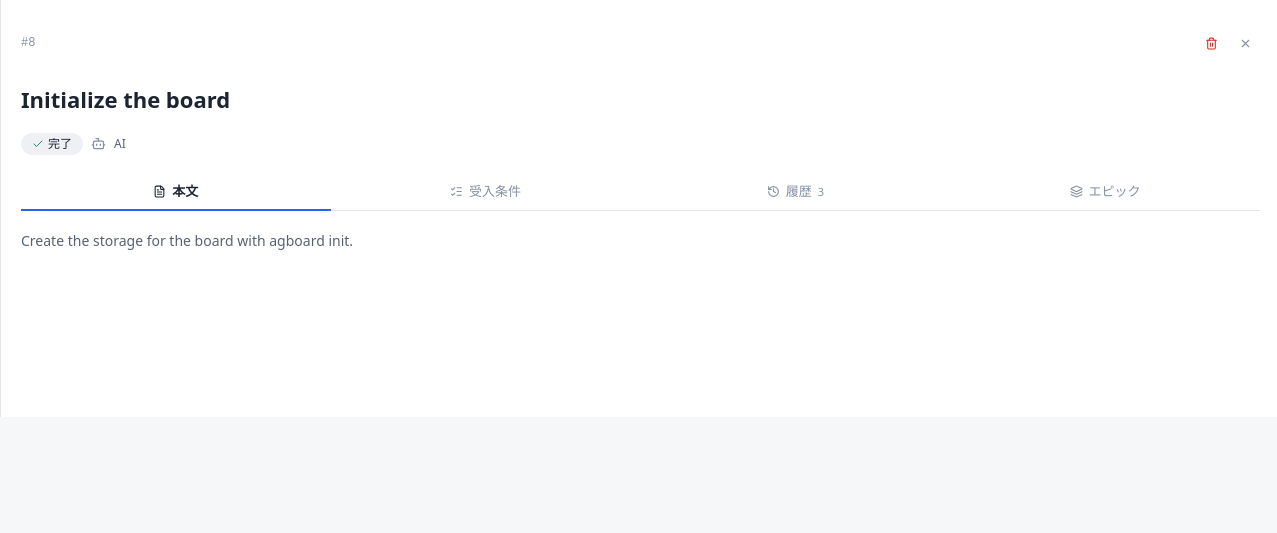
Test case: toolbar › matches the Pen Japanese delete confirmation copy
The image size is (1277, 533).
Click the button named "タスクを削除": x=1211, y=43 [1196,28,1226,58]
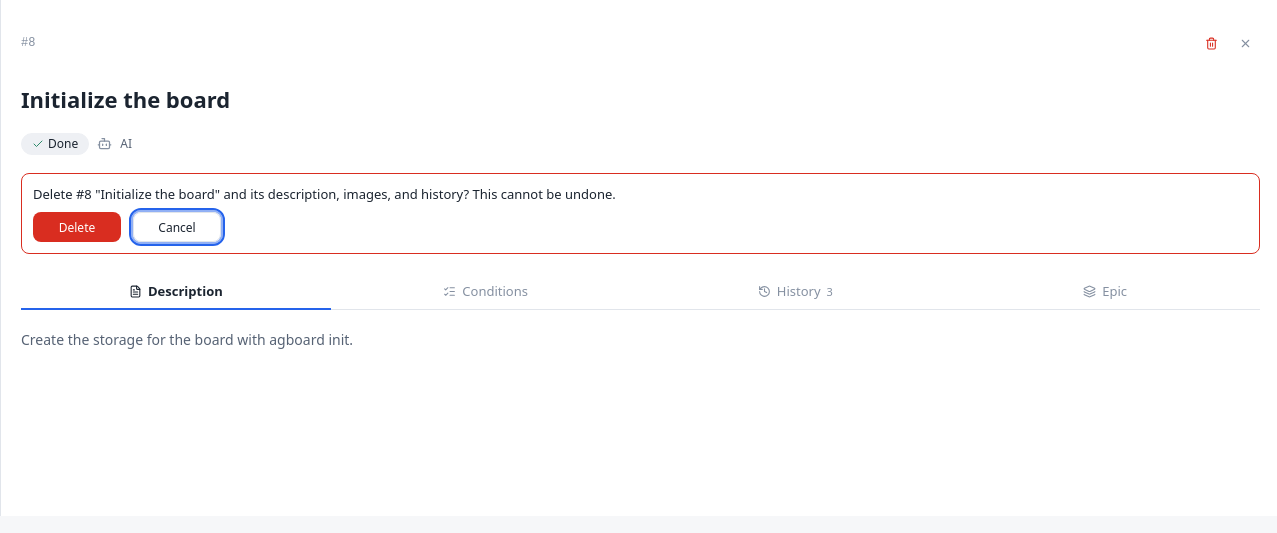
expect the text "#8「Initialize the board」を削除しますか？ 本文・画像・履歴も削除されます。この操作は元に戻せません。" is shown: met, box [33,185,616,203]
